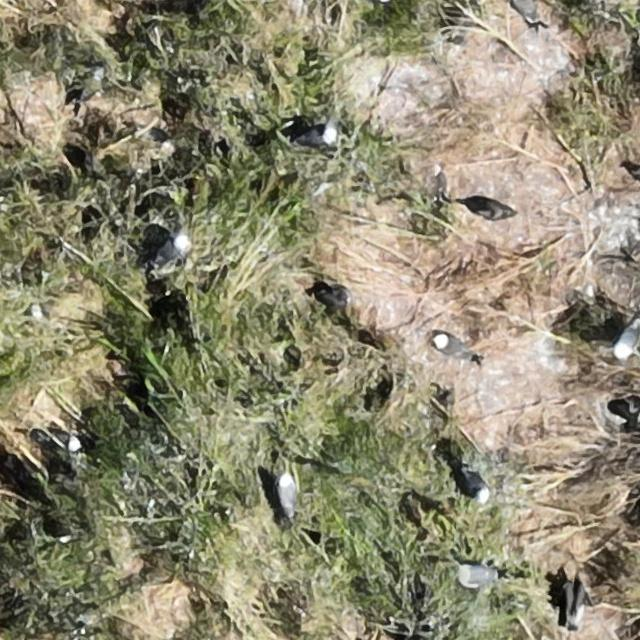umineko: (153, 234, 185, 263), (276, 473, 296, 514), (435, 336, 471, 358), (459, 566, 496, 586), (465, 472, 490, 501), (69, 436, 89, 472), (614, 325, 637, 356), (298, 127, 332, 146)
